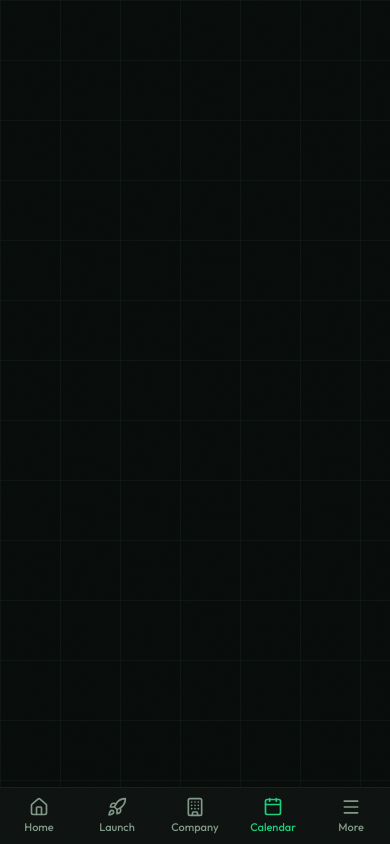
MobileTabBar › marks the current tab and keeps the rest under More
Expected: the link "Portfolio" is not shown
Click the button "More": (351, 816) [312, 788, 389, 843]
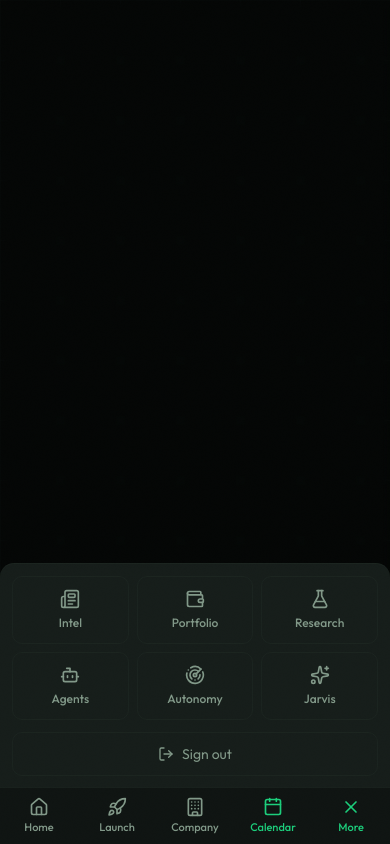
Expected: the link "Portfolio" is shown, [137, 576, 253, 644]
Expected: the button "Sign out" is shown, [12, 732, 378, 776]
